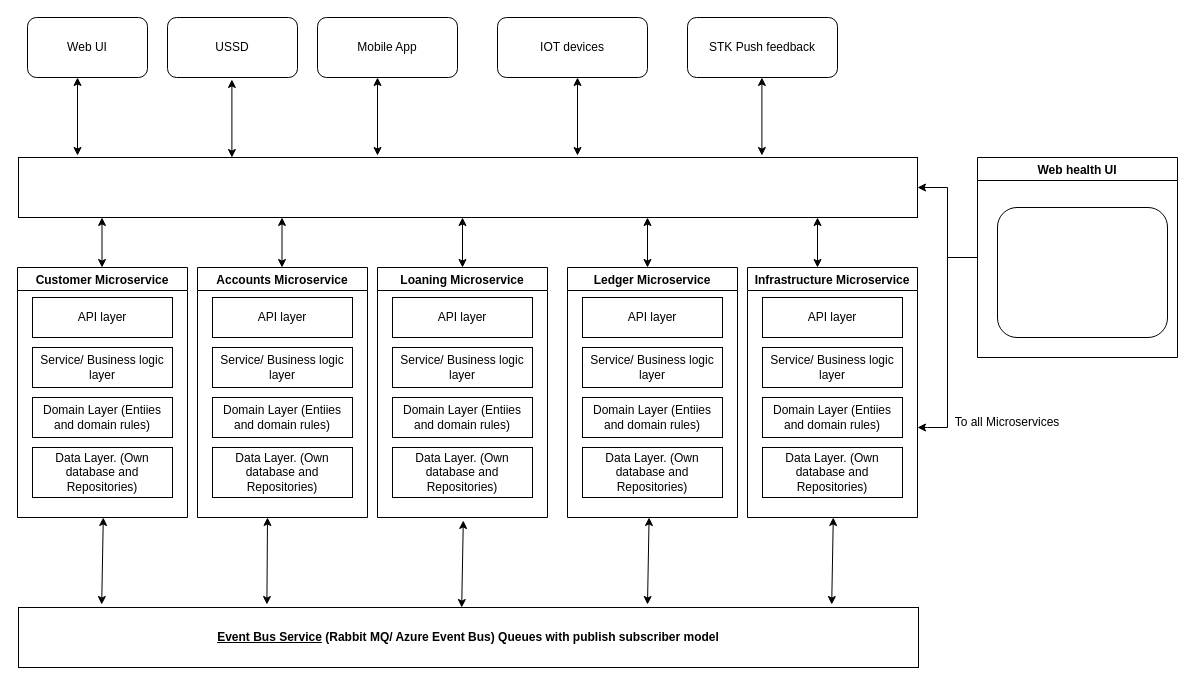
The diagram is 1195 pixels wide and 685 high, and some of its shapes have lost their labels. Here are the shapes that lost their labels. From the top down, the centre of each, then its label:
the point at 468,187: API Aggregator (Exposed to the outside with HTTPS/GRPC requests)
the point at 1082,272: Monitors all microservices for their health status and displays the same on a UI
